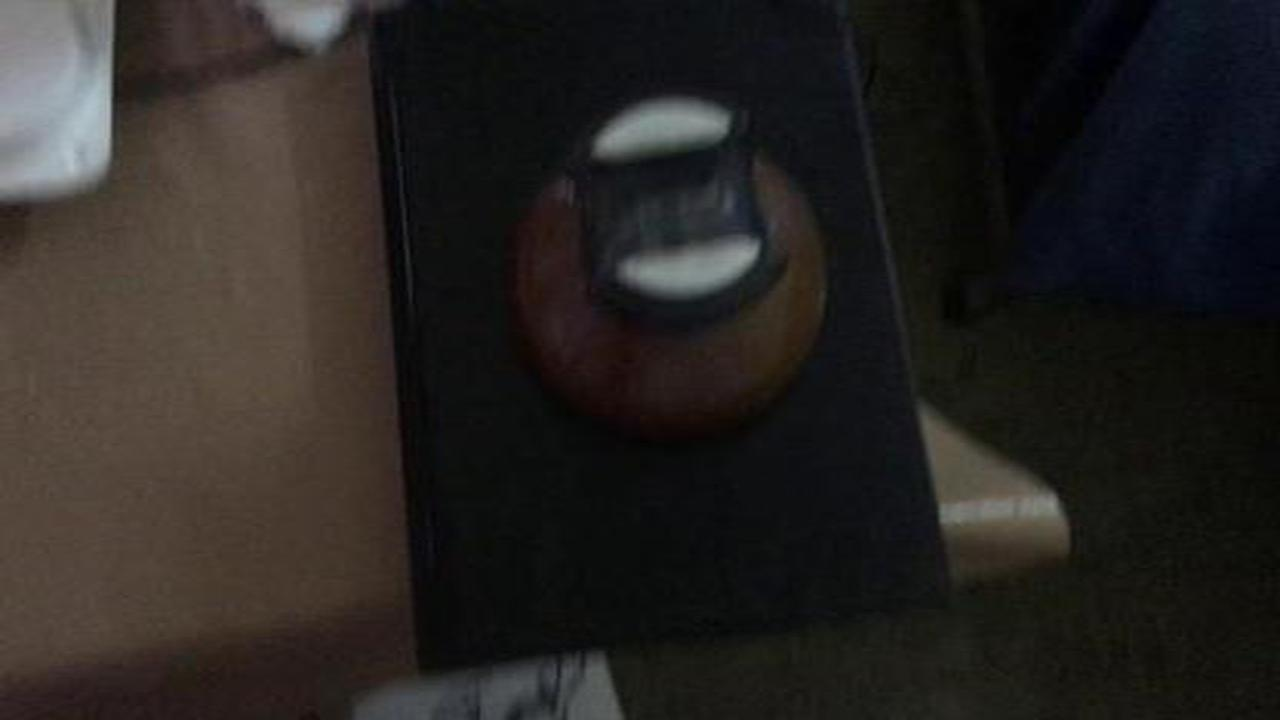insulator_pin: (468, 70, 865, 457)
